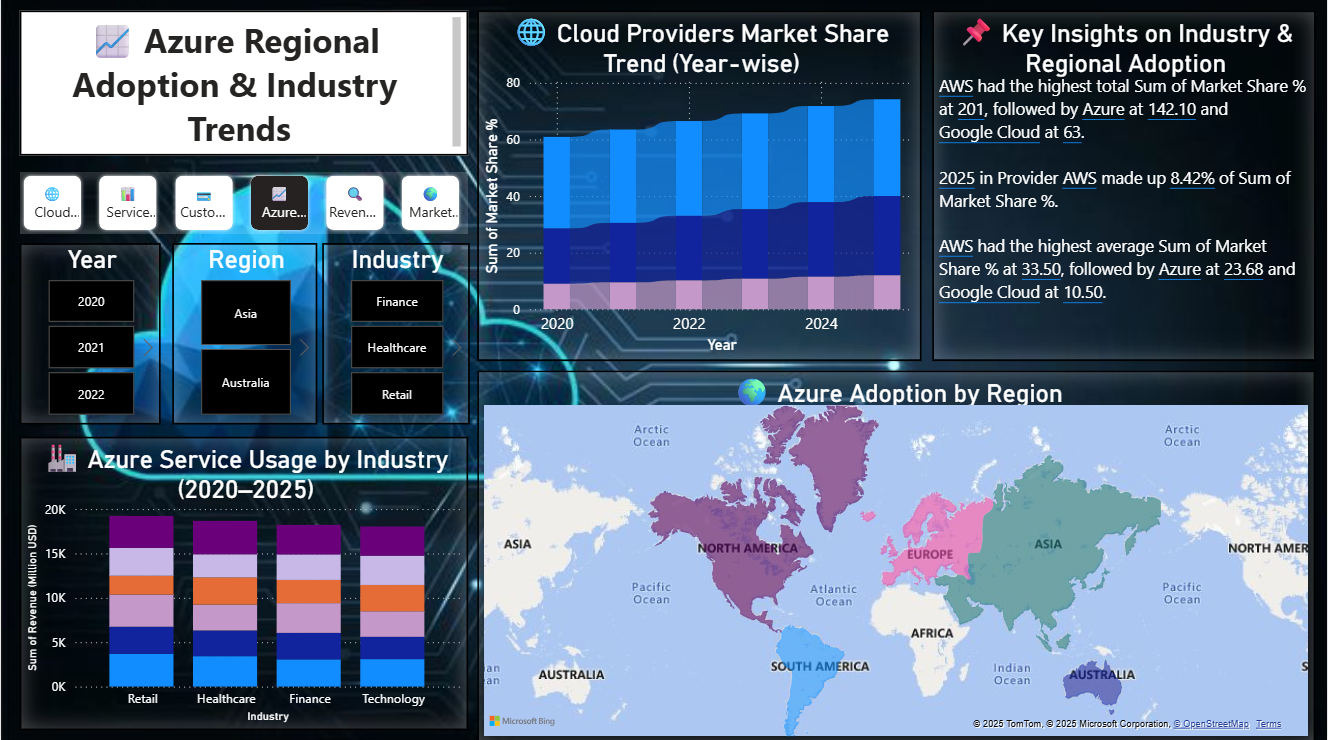

What the dashboard file says about the page in this screenshot:
{"tool":"powerbi","page":{"name":"📈Azure Regional Adoption & Industry Trends","canvas":[1280,720],"ordinal":3},"visuals":[{"type":"ribbonChart","title":"🌐 Cloud Providers Market Share Trend (Year-wise)","fields":{"Y":["Sum(azure_market_share.Market Share %)"],"Category":["azure_market_share.Year"],"Series":["azure_market_share.Provider"]},"box":[460,12.5,428.8,338.8],"z":0},{"type":"textbox","box":[18.1,12.1,433.1,139.9],"z":1000},{"type":"filledMap","title":"🌍 Azure Adoption by Region","fields":{"Category":["azure_revenue_extended.Region"],"Series":["azure_revenue_extended.Revenue (Million USD)"]},"box":[460,360,808.8,360],"z":2000},{"type":"columnChart","title":"🏭 Azure Service Usage by Industry (2020–2025)","fields":{"Category":["azure_revenue_extended.Industry"],"Y":["Sum(azure_revenue_extended.Revenue (Million USD))"],"Series":["azure_revenue_extended.Year"]},"box":[18.1,423.5,433.1,283.5],"z":3000},{"type":"slicer","title":"Year","fields":{"Values":["azure_market_share.Year"]},"box":[18.1,236.5,136.3,174.9],"z":4000},{"type":"textbox","title":"📌 Key Insights on Industry & Regional Adoption","box":[898.8,12.5,370,338.8],"z":5000},{"type":"slicer","title":"Industry","fields":{"Values":["azure_revenue_extended.Industry"]},"box":[310.1,236.5,142.4,174.9],"z":6000},{"type":"slicer","title":"Region","fields":{"Values":["azure_revenue_extended.Region"]},"box":[165.3,236.5,139.9,174.9],"z":7000},{"type":"pageNavigator","box":[18.1,167.7,433.1,60.3],"z":8000}]}

Visuals, with their boxes in screenshot pixels (x1, y1, x2, y2), scaled from the page's 1280x720 canvas onto the 1328x740 screenshot:
"🌐 Cloud Providers Market Share Trend (Year-wise)" ribbonChart: 477, 13, 922, 361
textbox: 19, 12, 468, 156
"🌍 Azure Adoption by Region" filledMap: 477, 370, 1316, 739
"🏭 Azure Service Usage by Industry (2020–2025)" columnChart: 19, 435, 468, 727
"Year" slicer: 19, 243, 160, 423
"📌 Key Insights on Industry & Regional Adoption" textbox: 933, 13, 1316, 361
"Industry" slicer: 322, 243, 469, 423
"Region" slicer: 171, 243, 317, 423
pageNavigator: 19, 172, 468, 234
